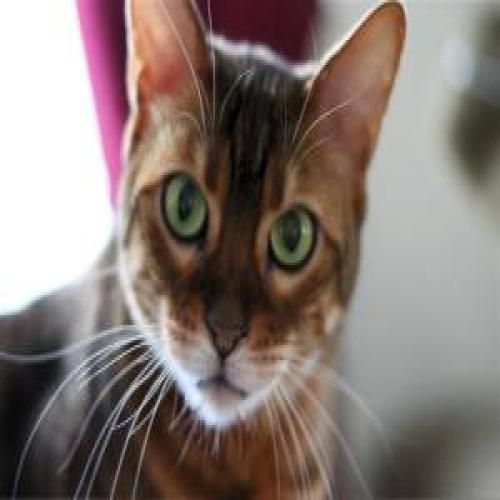bengal: (88, 1, 414, 456)
